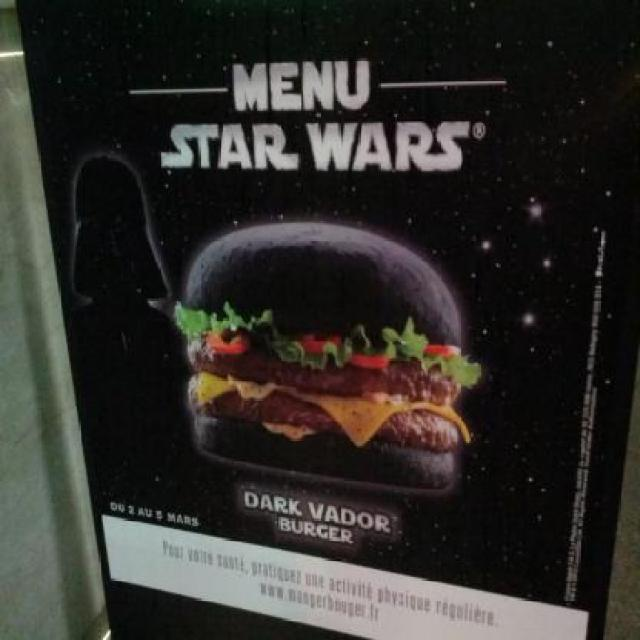Hamburger: (173, 223, 481, 492)
